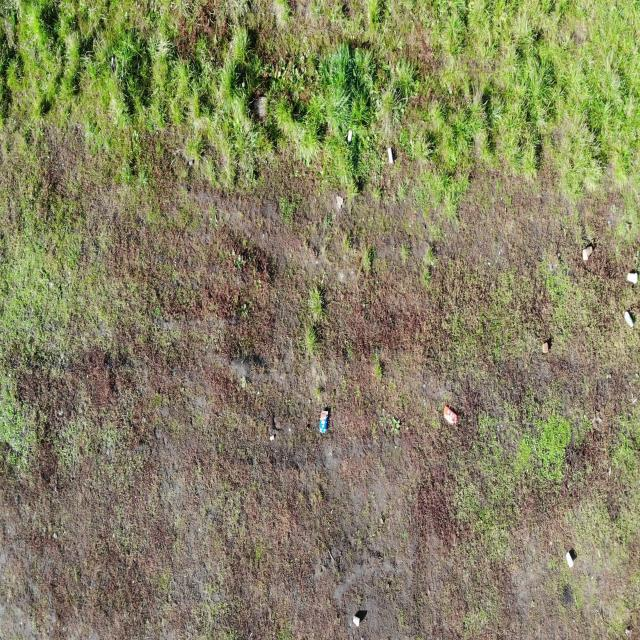rubbish: (443, 404, 459, 425), (318, 409, 329, 435), (582, 245, 592, 261), (624, 311, 634, 327), (626, 271, 638, 284), (110, 54, 116, 78), (566, 552, 574, 568), (346, 129, 353, 145), (352, 616, 360, 627), (388, 147, 393, 164), (542, 342, 549, 353), (422, 398, 426, 407), (606, 220, 610, 226), (256, 389, 260, 395), (270, 435, 274, 440), (422, 383, 425, 388), (288, 428, 290, 431)
